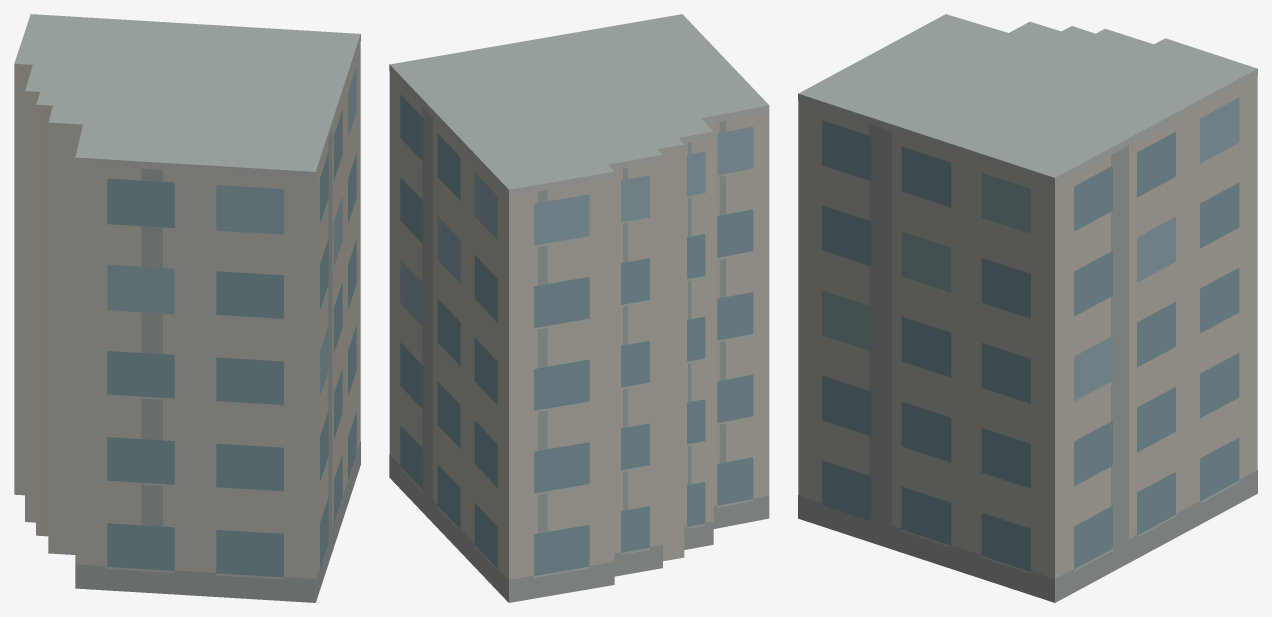
File: survey-upis-33041218.glb
3 renders of one model, left to right at view 1: azimuth 30°, elevation 25°; view 2: azimuth 150°, elevation 25°; view 3: azimuth 270°, elevation 25°, orthographic. The views are drawn at different scales.
Visible parts, largest first — view 1: survey-upis-33041218.tmp; view 2: survey-upis-33041218.tmp; view 3: survey-upis-33041218.tmp.
Boxes of the visible parts, x1,y1,x2,y2 form: survey-upis-33041218.tmp: (14,14,360,602); survey-upis-33041218.tmp: (389,14,769,602); survey-upis-33041218.tmp: (798,14,1257,602).
Size of the model in its own units: 12.33 by 14.9 by 14.61.
